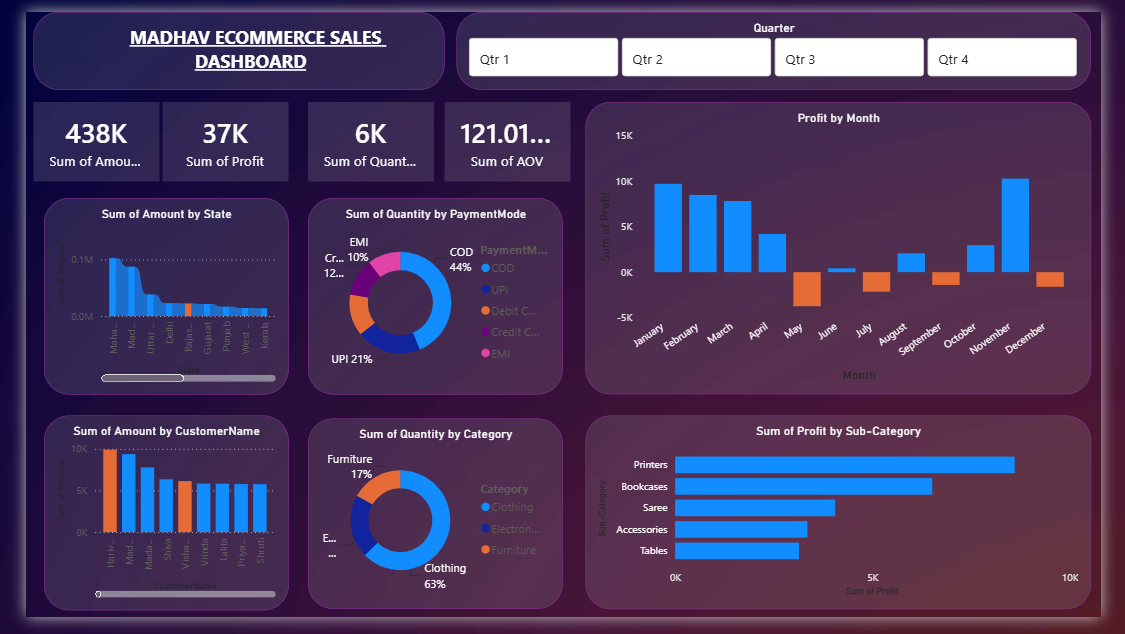

What the dashboard file says about the page in this screenshot:
{"tool":"powerbi","page":{"name":"Page 1","canvas":[1280,720],"ordinal":0},"visuals":[{"type":"textbox","box":[8.9,0,489.3,92.9],"z":0},{"type":"columnChart","title":"Profit by Month","fields":{"Category":["Orders.Order Date.Variation.Date Hierarchy.Month"],"Y":["Sum(Details.Profit)"]},"box":[666.1,107.1,601.8,348.2],"z":1},{"type":"barChart","fields":{"Category":["Details.Sub-Category"],"Y":["Sum(Details.Profit)"]},"box":[666.1,480.4,601.8,230.4],"z":2},{"type":"donutChart","fields":{"Y":["Sum(Details.Quantity)"],"Category":["Details.Category"]},"box":[335.7,483.9,303.6,226.8],"z":3},{"type":"donutChart","fields":{"Y":["Sum(Details.Quantity)"],"Category":["Details.PaymentMode"]},"box":[335.7,221.4,303.6,233.9],"z":4},{"type":"cardVisual","fields":{"Data":["Sum(Details.Amount)"]},"box":[8.9,107.1,150,94.6],"z":5},{"type":"cardVisual","fields":{"Data":["Sum(Details.Profit)"]},"box":[162.5,107.1,150,94.6],"z":6},{"type":"cardVisual","fields":{"Data":["Sum(Details.AOV)"]},"box":[498.2,107.1,150,94.6],"z":7},{"type":"cardVisual","fields":{"Data":["Sum(Details.Quantity)"]},"box":[335.7,107.1,150,94.6],"z":8},{"type":"columnChart","fields":{"Category":["Orders.CustomerName"],"Y":["Sum(Details.Amount)"]},"box":[21.4,480.4,291.1,232.1],"z":9},{"type":"ribbonChart","fields":{"Category":["Orders.State"],"Y":["Sum(Details.Amount)"]},"box":[21.4,221.4,291.1,233.9],"z":10},{"type":"advancedSlicerVisual","fields":{"Values":["Orders.Order Date.Variation.Date Hierarchy.Quarter"]},"box":[512.5,0,755.4,92.9],"z":11}]}

Visuals, with their boxes in screenshot pixels (x1, y1, x2, y2), scaled from the page's 1280x720 canvas onto the 1125x634 screenshot:
textbox: <region>8, 0, 438, 82</region>
"Profit by Month" columnChart: <region>585, 94, 1114, 401</region>
barChart - Details.Sub-Category x Sum(Details.Profit): <region>585, 423, 1114, 626</region>
donutChart - Sum(Details.Quantity) x Details.Category: <region>295, 426, 562, 626</region>
donutChart - Sum(Details.Quantity) x Details.PaymentMode: <region>295, 195, 562, 401</region>
cardVisual - Sum(Details.Amount): <region>8, 94, 140, 178</region>
cardVisual - Sum(Details.Profit): <region>143, 94, 275, 178</region>
cardVisual - Sum(Details.AOV): <region>438, 94, 570, 178</region>
cardVisual - Sum(Details.Quantity): <region>295, 94, 427, 178</region>
columnChart - Orders.CustomerName x Sum(Details.Amount): <region>19, 423, 275, 627</region>
ribbonChart - Orders.State x Sum(Details.Amount): <region>19, 195, 275, 401</region>
advancedSlicerVisual - Orders.Order Date.Variation.Date Hierarchy.Quarter: <region>450, 0, 1114, 82</region>
